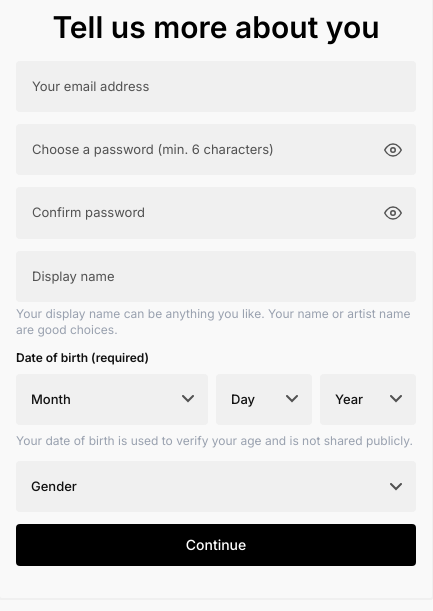
RegisterationForm › shows recaptcha error when token generation fails
In the field named "email": x=216, y=87 16,61 -> 416,112, type "listener@decibel.test"
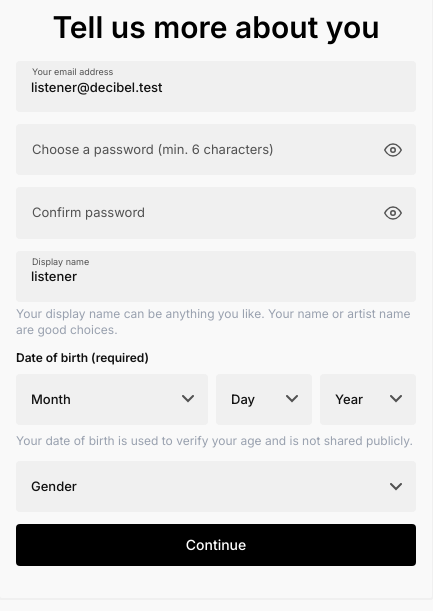
Expected: the field named "displayName" holds "listener", 16,251 -> 416,302
In the password field labelled "Choose a password (min. 6 characters)": x=216, y=150 16,124 -> 416,175, type "Password1"
In the password field labelled "Confirm password": x=216, y=213 16,187 -> 416,239, type "Password1"
Select "January" in the 1st dropdown named "month": x=112, y=399 16,374 -> 208,425
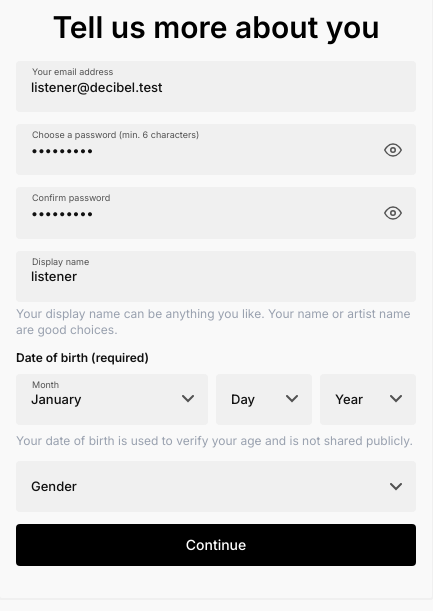
Select "1" in the 1st dropdown named "day": x=264, y=399 216,374 -> 312,425
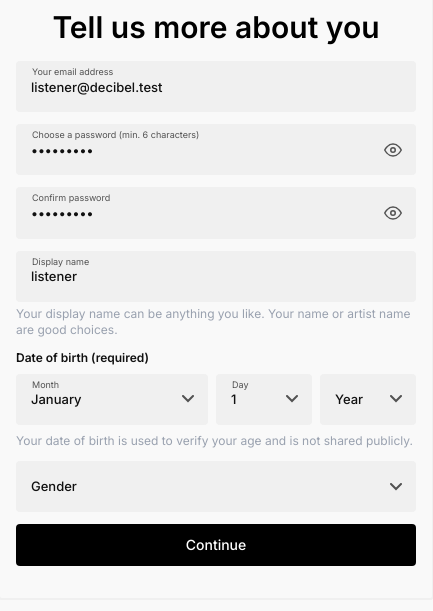
Select "2000" in the dropdown named "year" next to "Day": x=368, y=399 320,374 -> 416,425
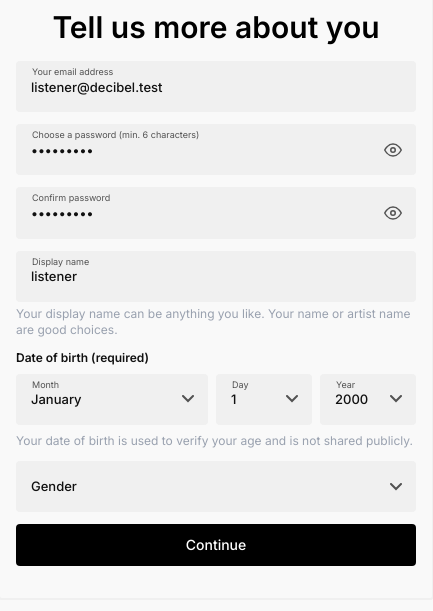
Select "Female" in the dropdown named "gender": x=216, y=486 16,461 -> 416,512
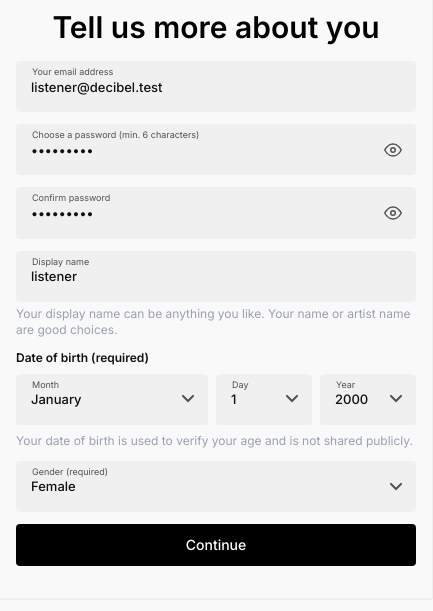
Click the button "Continue": x=216, y=545 16,524 -> 416,566
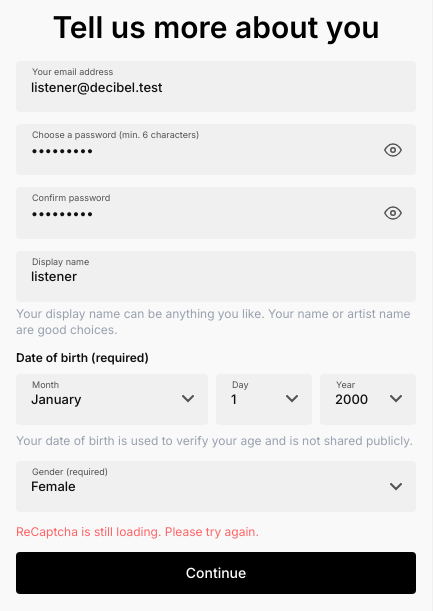
Expected: the text "ReCaptcha is still loading. Please try again." is shown, 16,524 -> 259,539
